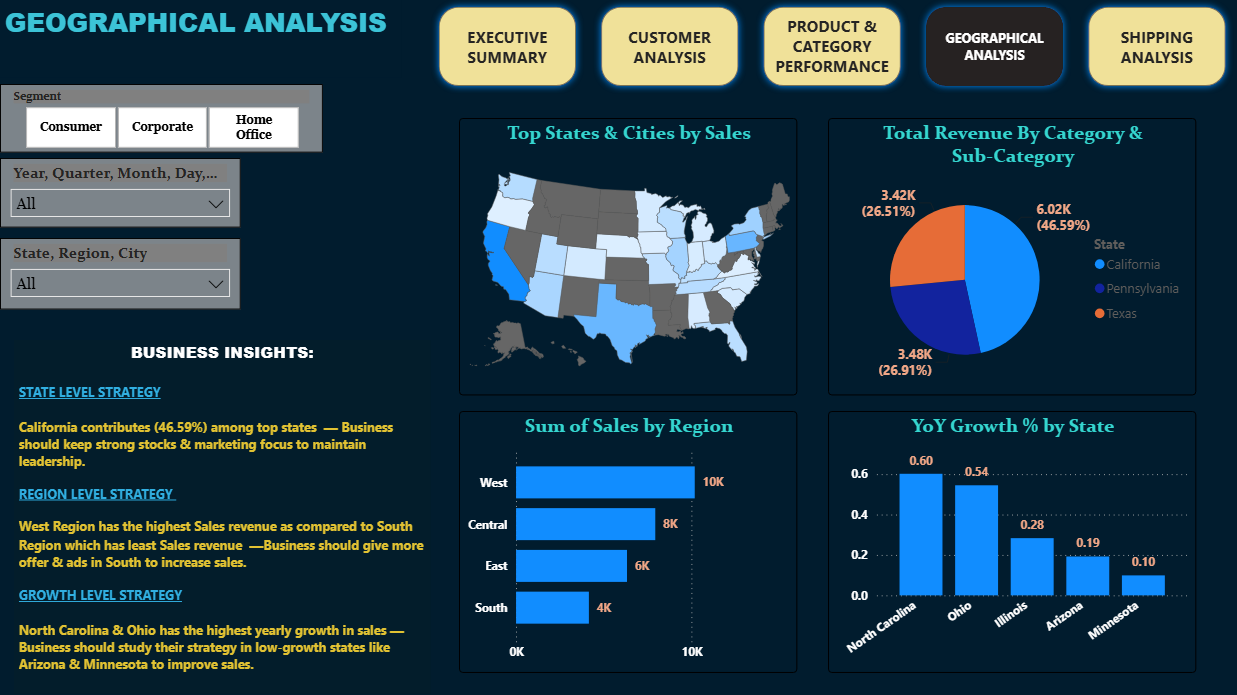

Layout of this report page (visuals, bound fields, positions):
{"tool":"powerbi","page":{"name":"GEOGRAPHICAL ANALYSIS","canvas":[1280,720],"ordinal":3},"visuals":[{"type":"textbox","box":[0,0,414.9,80.9],"z":0},{"type":"pieChart","title":"Total Revenue By Category & Sub-Category","fields":{"Category":["sales_data.State"],"Y":["_measures.Total Revenue"]},"box":[856.3,123.6,381.1,286.9],"z":1},{"type":"clusteredBarChart","fields":{"Category":["sales_data.Region"],"Y":["Sum(sales_data.Sales)"]},"box":[475.2,426.7,350.2,270.7],"z":2},{"type":"shapeMap","title":"Top States & Cities by Sales","fields":{"Category":["sales_data.State"],"Value":["Sum(sales_data.Sales)"]},"box":[475.2,123.6,350.2,286.9],"z":3},{"type":"slicer","fields":{"Values":["Date.Date.Variation.Date Hierarchy.Year","Date.Date.Variation.Date Hierarchy.Quarter","Date.Date.Variation.Date Hierarchy.Month","Date.Date.Variation.Date Hierarchy.Day","Date.Month"]},"box":[0,164.8,248.6,72.1],"z":4},{"type":"clusteredColumnChart","fields":{"Category":["sales_data.State"],"Y":["_measures.YoY Growth %"]},"box":[856.3,426.7,381.1,270.7],"z":5},{"type":"slicer","fields":{"Values":["sales_data.Segment"]},"box":[0,88.3,334,70.6],"z":6},{"type":"slicer","fields":{"Values":["sales_data.State","sales_data.Region","sales_data.City"]},"box":[0,247.2,248.6,73.6],"z":7},{"type":"textbox","box":[14.7,353.1,431.1,366.3],"z":8},{"type":"pageNavigator","box":[445.8,0,834.2,98.6],"z":9}]}

Visuals, with their boxes in screenshot pixels (x1, y1, x2, y2), scaled from the page's 1280x720 canvas onto the 1237x695 screenshot:
textbox: x1=0 y1=0 x2=401 y2=78
"Total Revenue By Category & Sub-Category" pieChart: x1=828 y1=119 x2=1196 y2=396
clusteredBarChart - sales_data.Region x Sum(sales_data.Sales): x1=459 y1=412 x2=798 y2=673
"Top States & Cities by Sales" shapeMap: x1=459 y1=119 x2=798 y2=396
slicer - Date.Date.Variation.Date Hierarchy.Year x Date.Date.Variation.Date Hierarchy.Quarter: x1=0 y1=159 x2=240 y2=229
clusteredColumnChart - sales_data.State x _measures.YoY Growth %: x1=828 y1=412 x2=1196 y2=673
slicer - sales_data.Segment: x1=0 y1=85 x2=323 y2=153
slicer - sales_data.State x sales_data.Region: x1=0 y1=239 x2=240 y2=310
textbox: x1=14 y1=341 x2=431 y2=694
pageNavigator: x1=431 y1=0 x2=1236 y2=95
